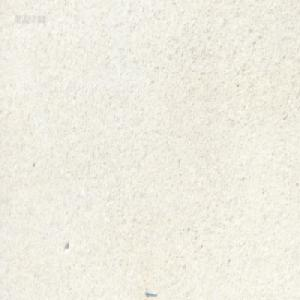Nail: (144, 288, 157, 296)
